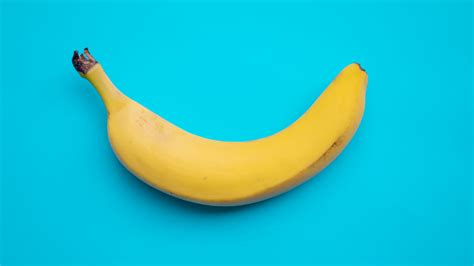banana: (102, 62, 377, 212)
